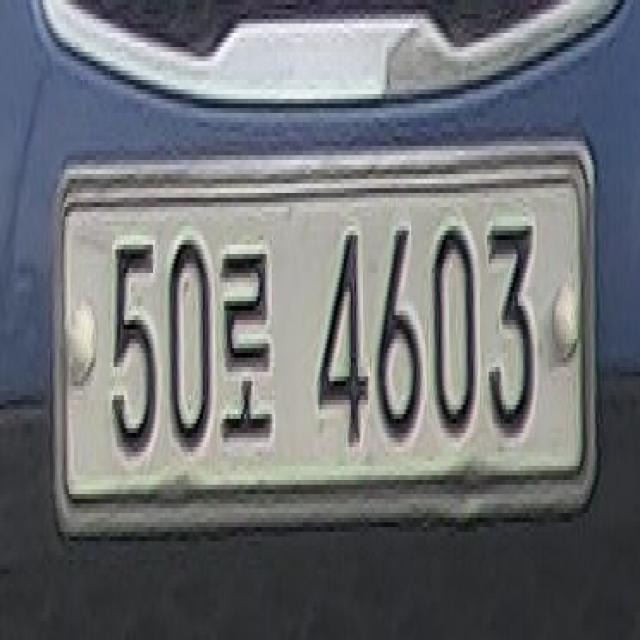0: (165, 223, 213, 474), (428, 218, 478, 454)
3: (481, 218, 538, 460)
4: (312, 220, 372, 470)
5: (107, 222, 161, 478)
6: (374, 220, 426, 480)
license_plate: (48, 140, 598, 526)
lo: (215, 224, 279, 466)
